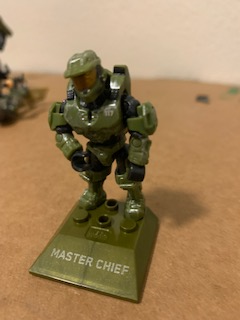chief: (47, 49, 159, 221)
spartan: (45, 47, 157, 219)
